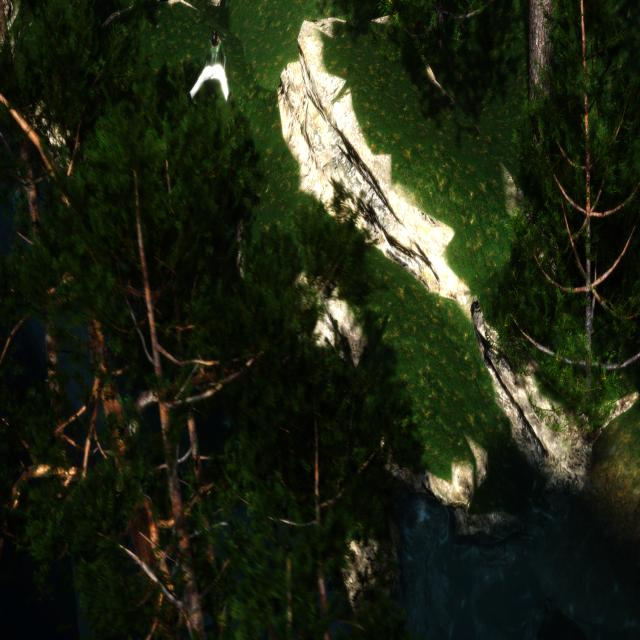Human: (186, 23, 235, 113)
